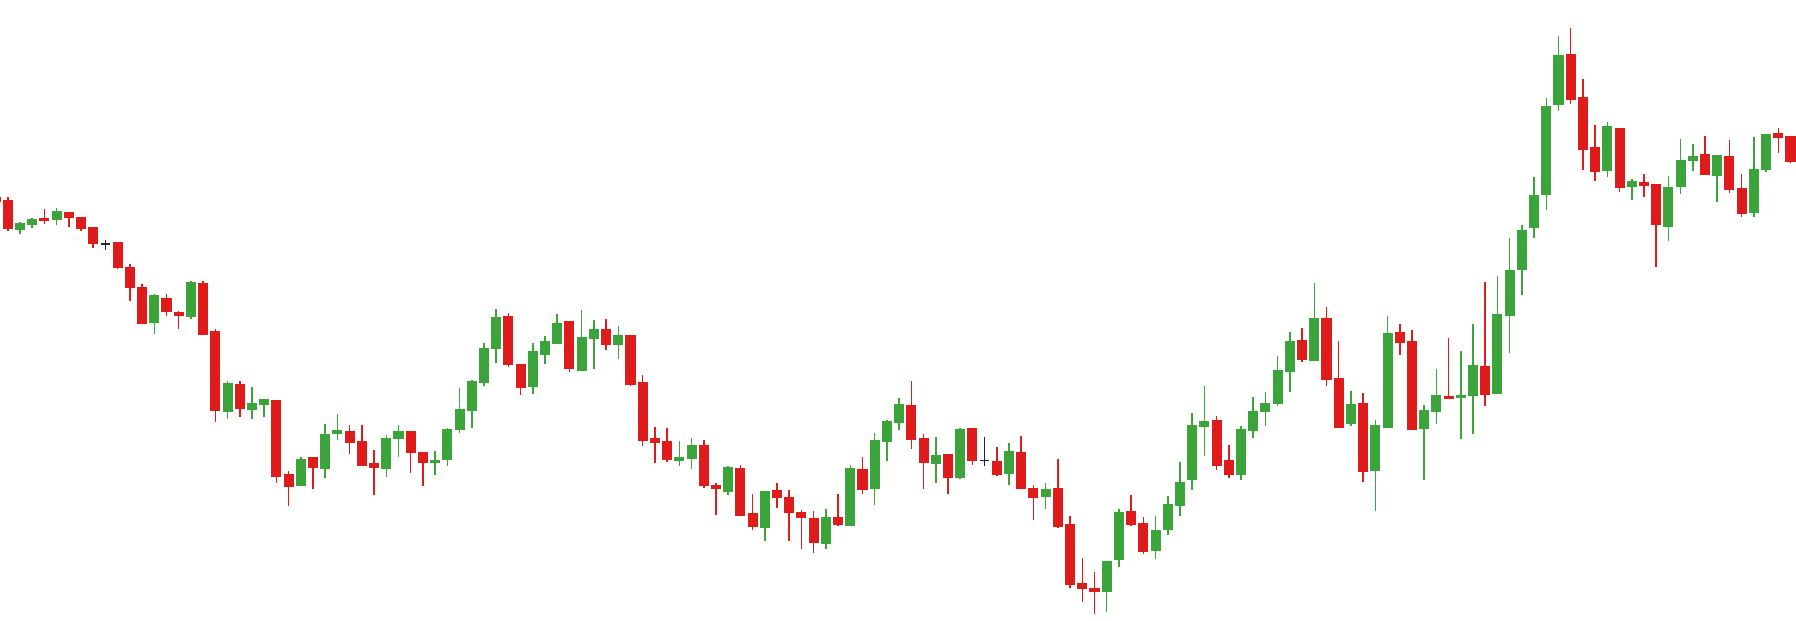buy: (808, 457, 1125, 610)
